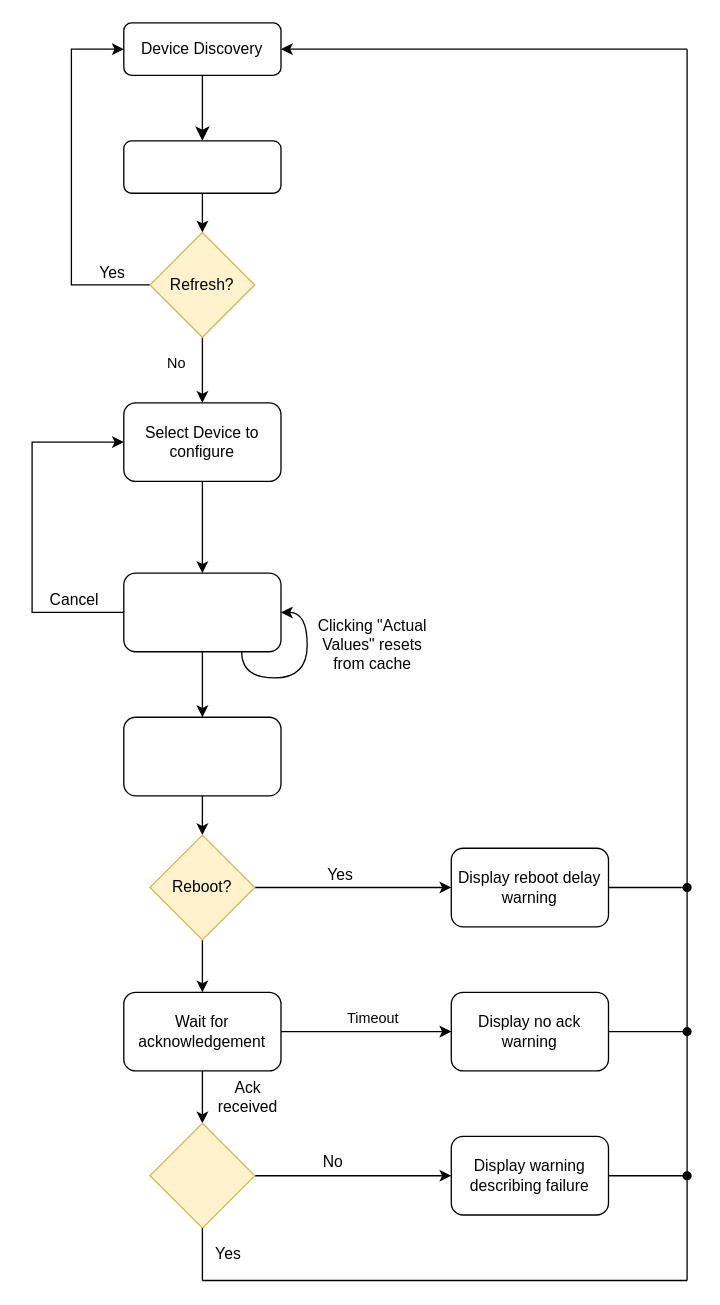
This 720x1305 diagram has some shape labels left out. Each missing label, with the centre of its shape:
Ack ok?: (x=202, y=1175)
Edit Configuration: (x=201, y=612)
List Devices: (x=201, y=166)
Validate new configuration: (x=201, y=756)
